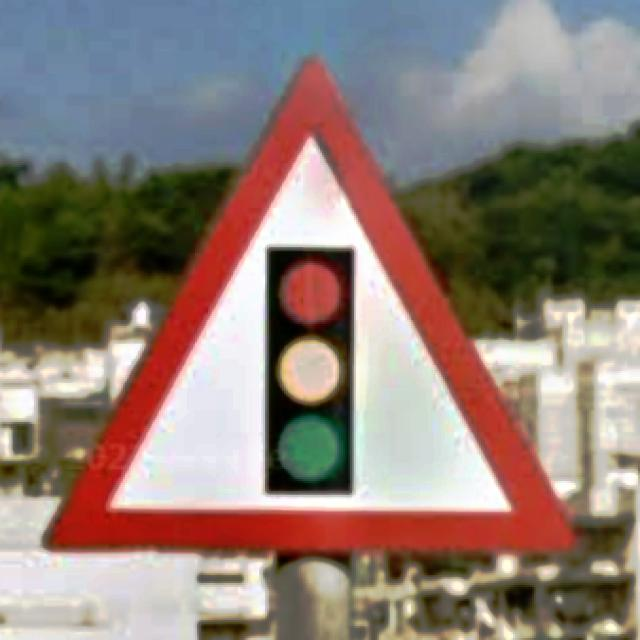signalahead: (44, 60, 580, 554)
